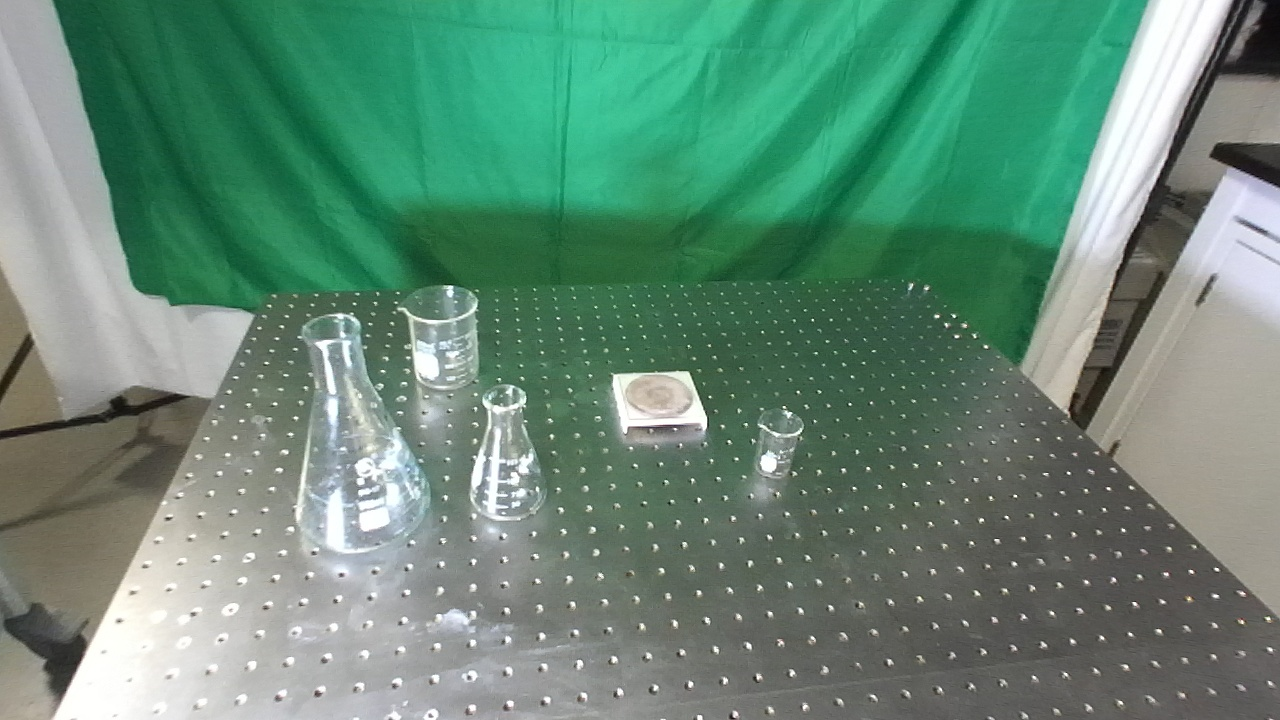glass: (288, 310, 433, 557), (465, 382, 549, 525), (397, 283, 485, 394), (751, 406, 806, 482)
plate: (607, 365, 713, 438)
